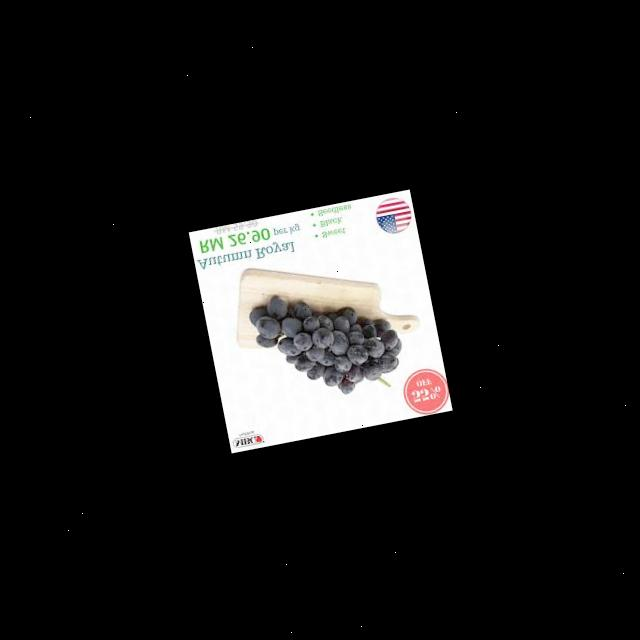grape: (244, 272, 408, 410)
